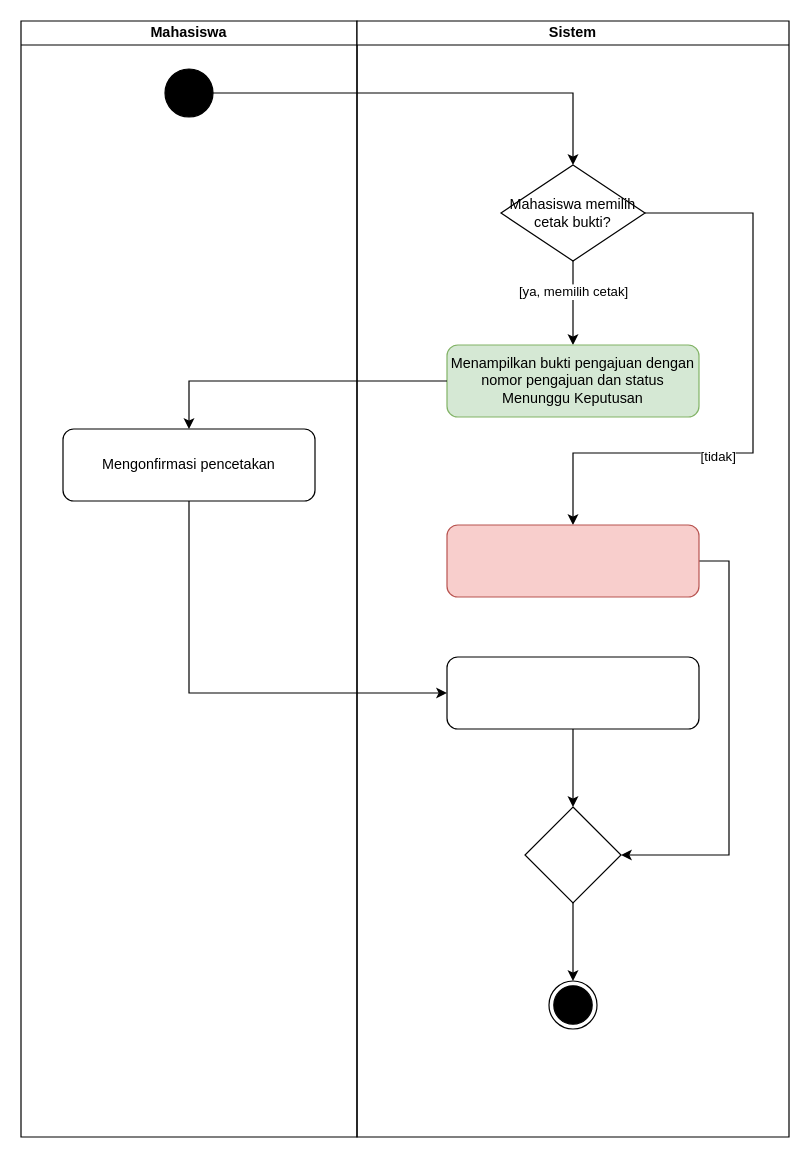
The diagram is 810 pixels wide and 1158 high, and some of its shapes have lost their labels. The centre of each missing label's shape, as x and y in pixels:
"Mencetak bukti pengajuan" belongs at point 572,692.
"Menutup konfirmasi tanpa mencetak bukti dan pengajuan tersimpan" belongs at point 572,560.
